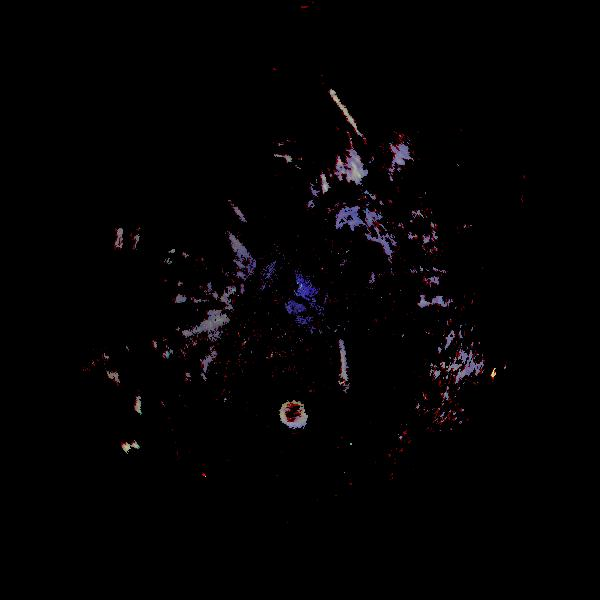roost: (279, 399, 309, 429)
